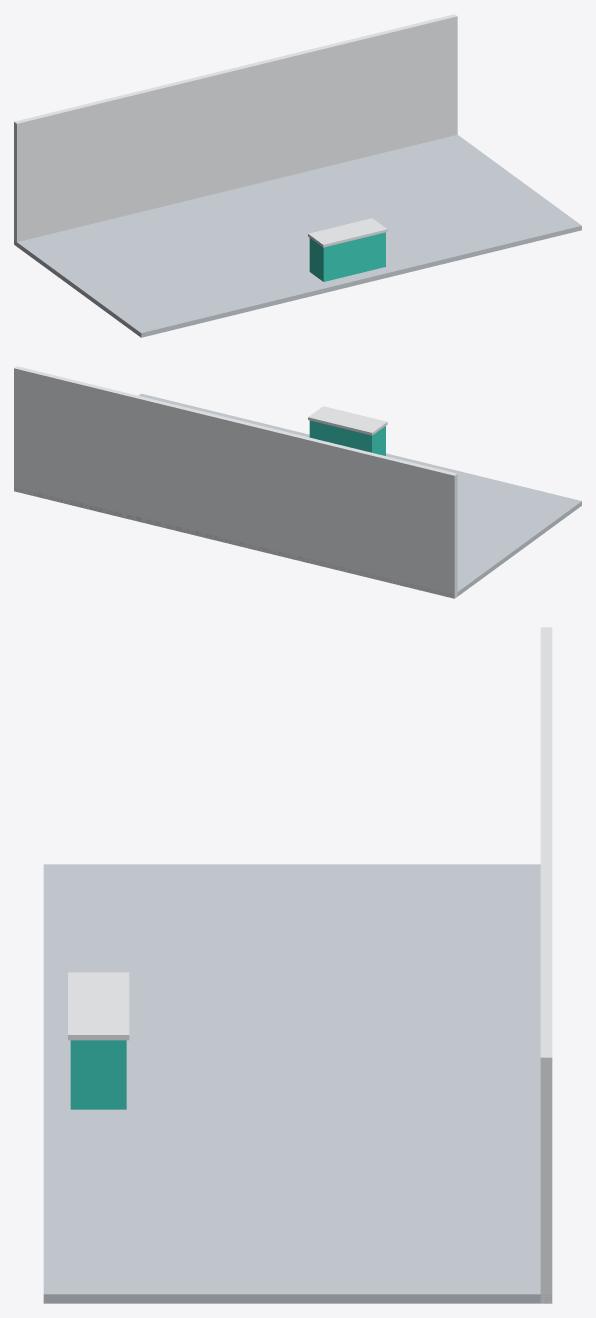
3 views of the same model, one above another, from view 1: azimuth 30°, elevation 25°; view 2: azimuth 150°, elevation 25°; view 3: azimuth 270°, elevation 25° (orthographic). The views are drawn at different scales.
Parts seen in each view (by area): view 1: Exhibition Booth Concept; view 2: Exhibition Booth Concept; view 3: Exhibition Booth Concept.
Part boxes in pixels (x1,y1,x2,y2): Exhibition Booth Concept: (14,14,581,337); Exhibition Booth Concept: (14,366,581,598); Exhibition Booth Concept: (43,627,552,1303).
Size of the model in its own units: 12 by 3.2 by 6.
